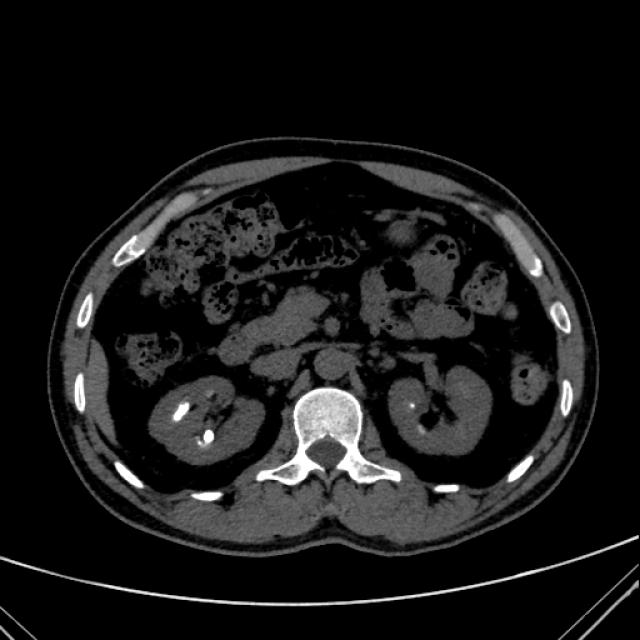kidneystone: (172, 401, 190, 422), (196, 429, 215, 447)
